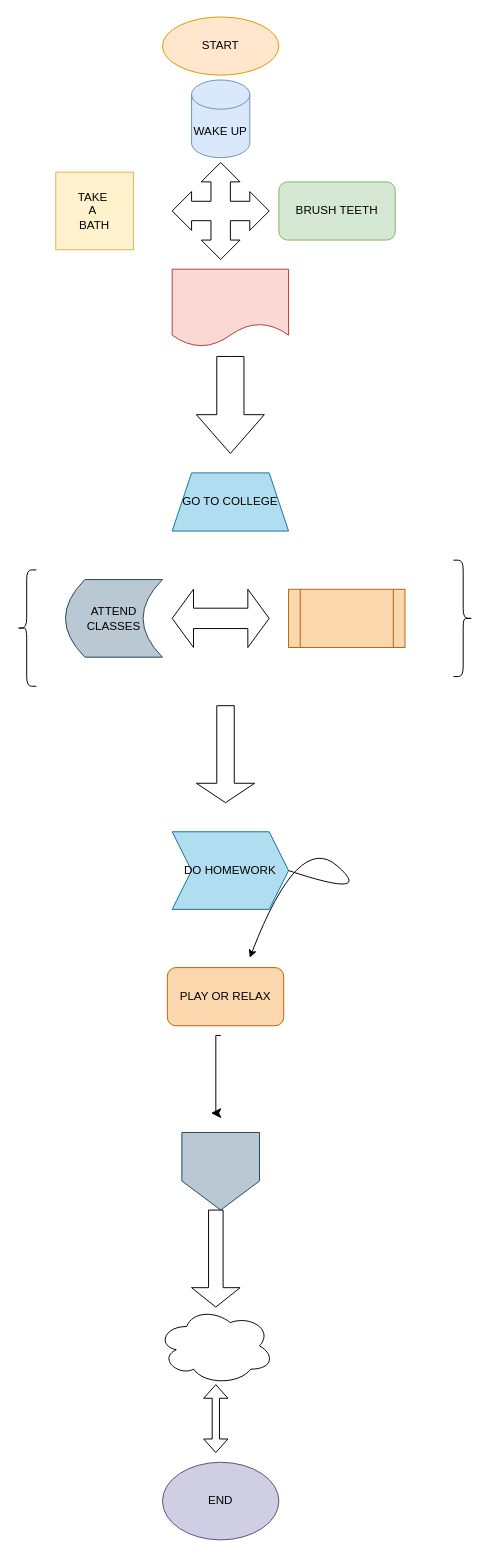
Some shapes in this 490 by 1557 pixel diagram are drawn without their labels. The shapes that lost their labels are listed below. From the top down, each one's box as (x1, y1, x2, y2) in pixels, then its label:
(171, 268, 289, 347): HAVE BREAKFAST
(288, 588, 405, 647): COME BACK HOME
(181, 1132, 259, 1210): HAVE DINNER
(157, 1306, 274, 1385): GO TO BED
